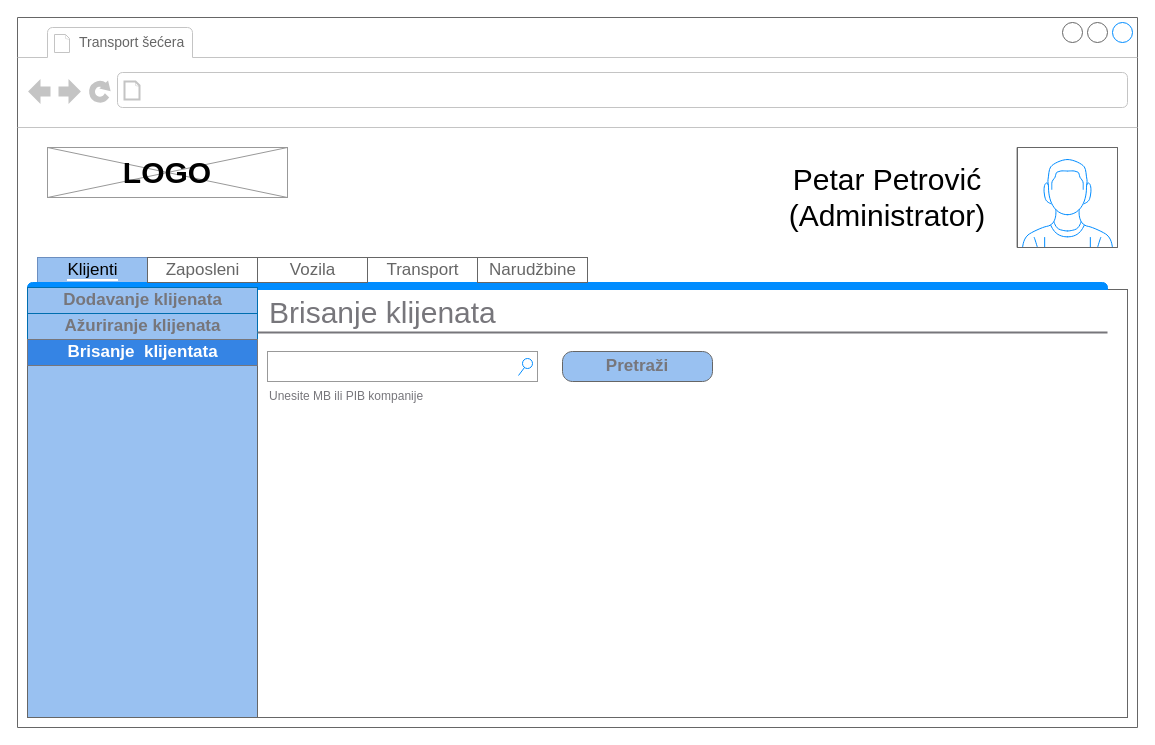
This 1155x745 diagram has some shape labels left out. Each missing label, with the centre of its shape:
"https://www.transportsecera.com/admin/klijenti" belongs at point 372,90.
"Search" belongs at point 402,366.
